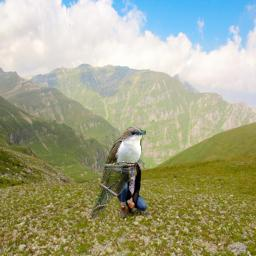Cuckoo: (87, 126, 146, 221)
